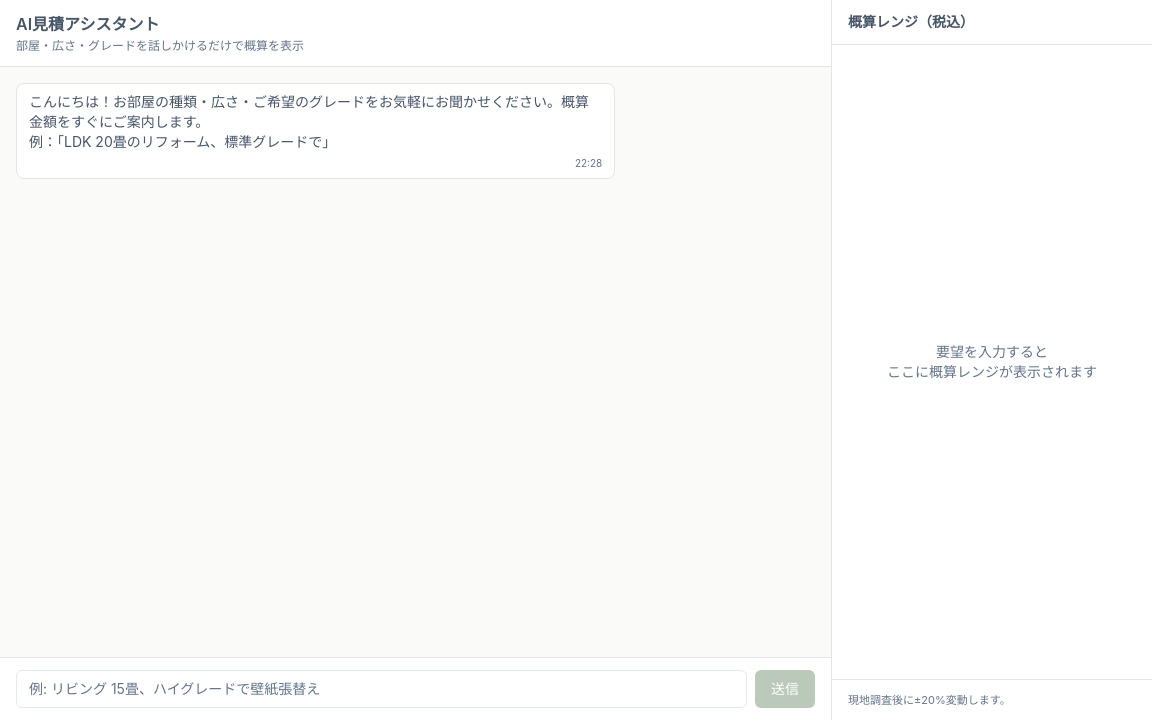
Test case: EstimateAssistantPage › メッセージを送信するとユーザー発言が表示される
In the field: (382, 689) [16,670,747,708], type "LDK 20㎡のリフォーム"
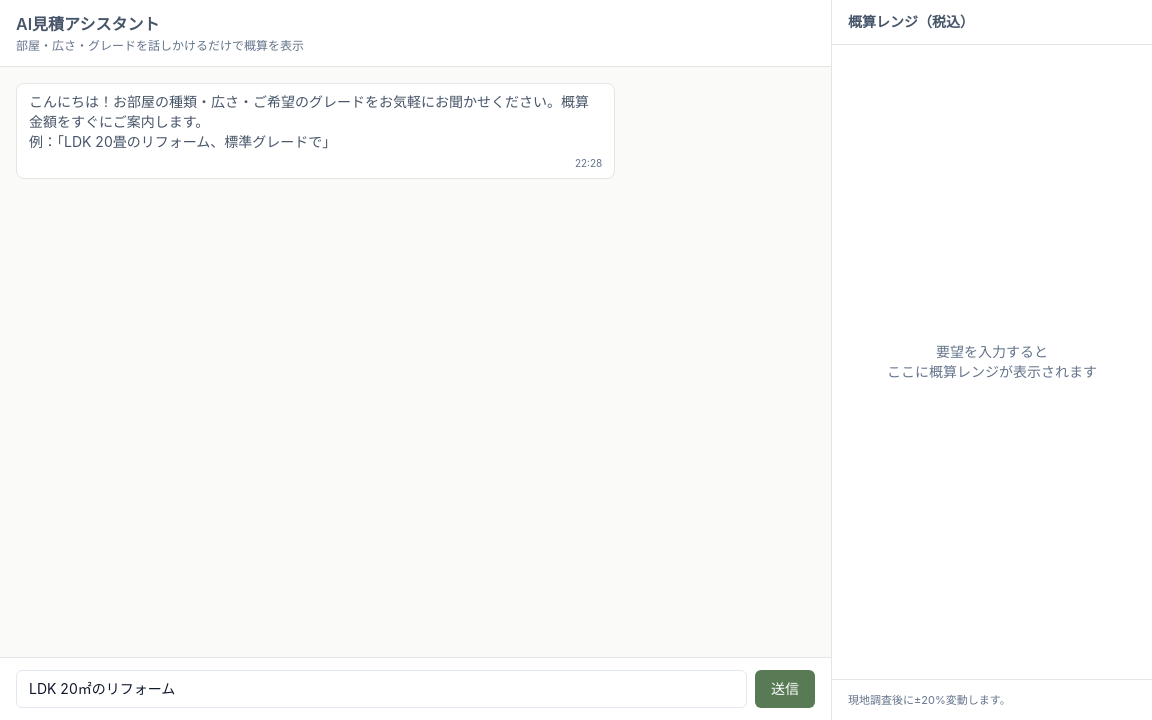
Click the button "送信": click(785, 689) [755,670,815,708]
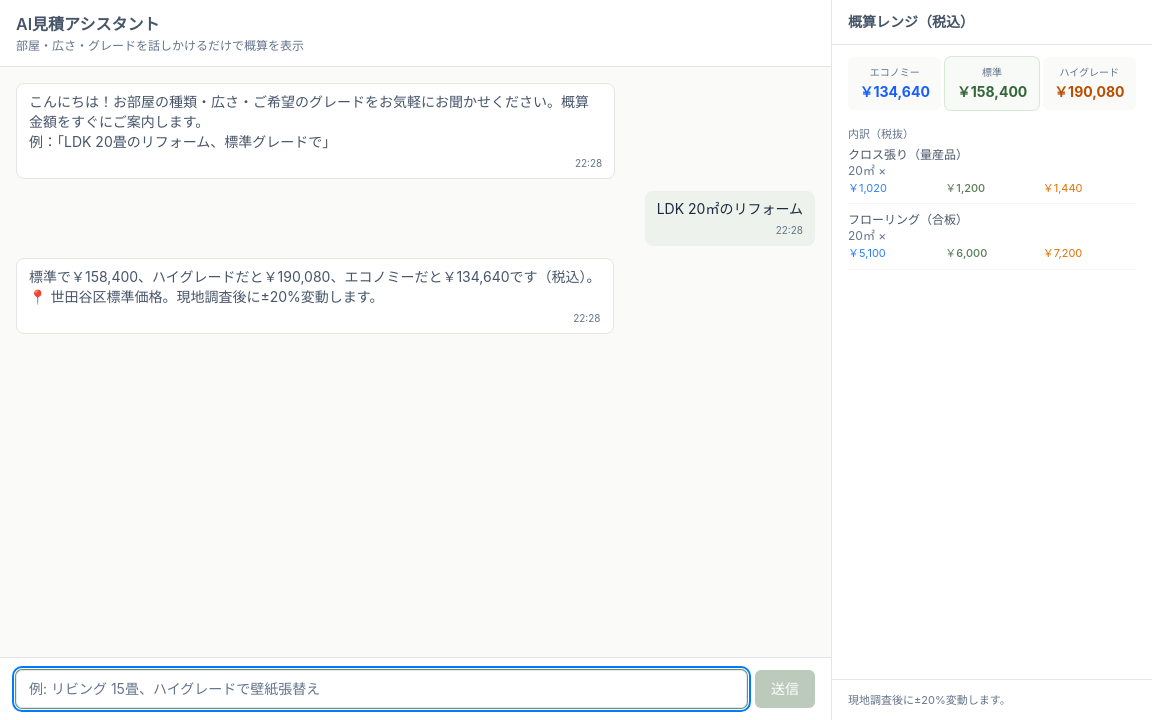
Expected: the text "LDK 20㎡のリフォーム" is shown, [657,200,803,217]
